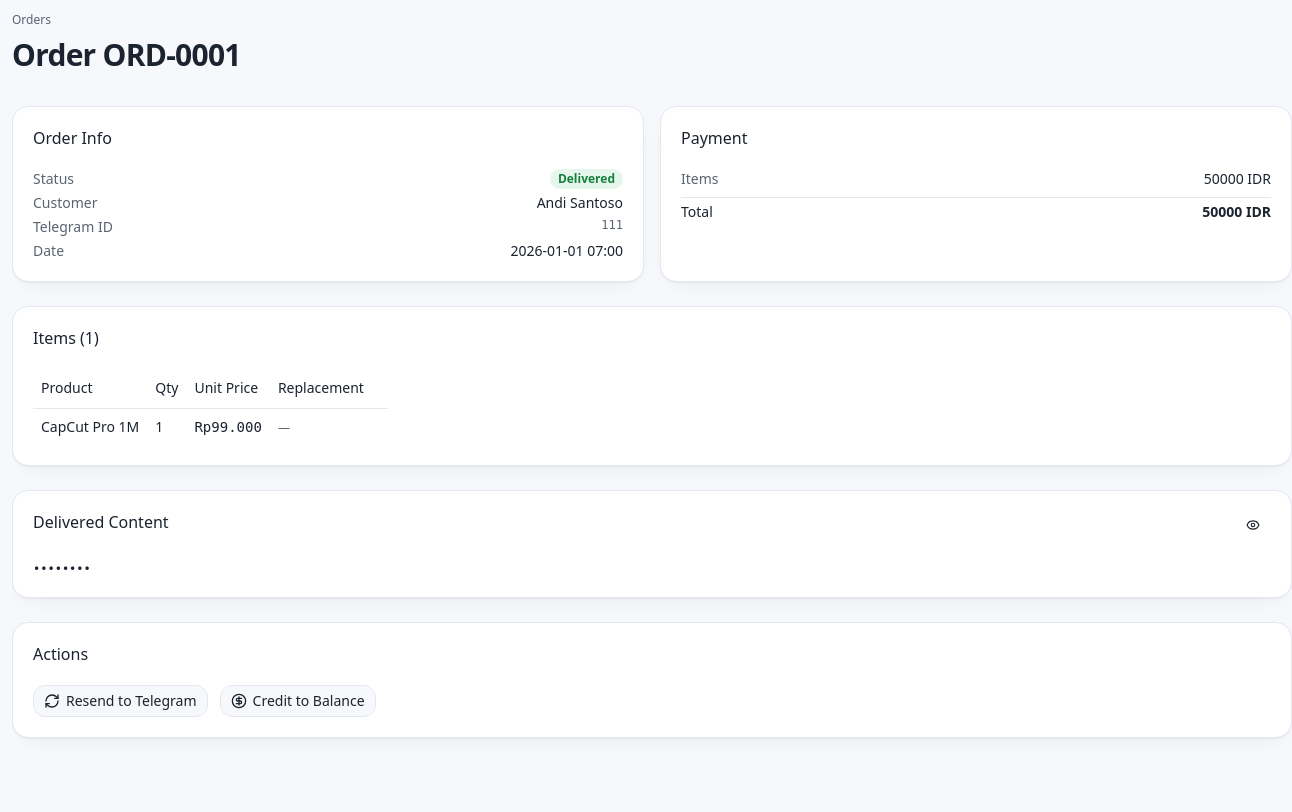
Test: OrderDetailPage — manual fulfilment › reveals the Delivered Content via the audited reveal route, and hides it again without a second request
This screenshot has width=1292, height=812.
Expected: the text "Delivered Content" is shown, x1=33 y1=511 x2=169 y2=533
Click the button named "Show delivered content": click(1253, 525) x1=1235 y1=511 x2=1271 y2=539
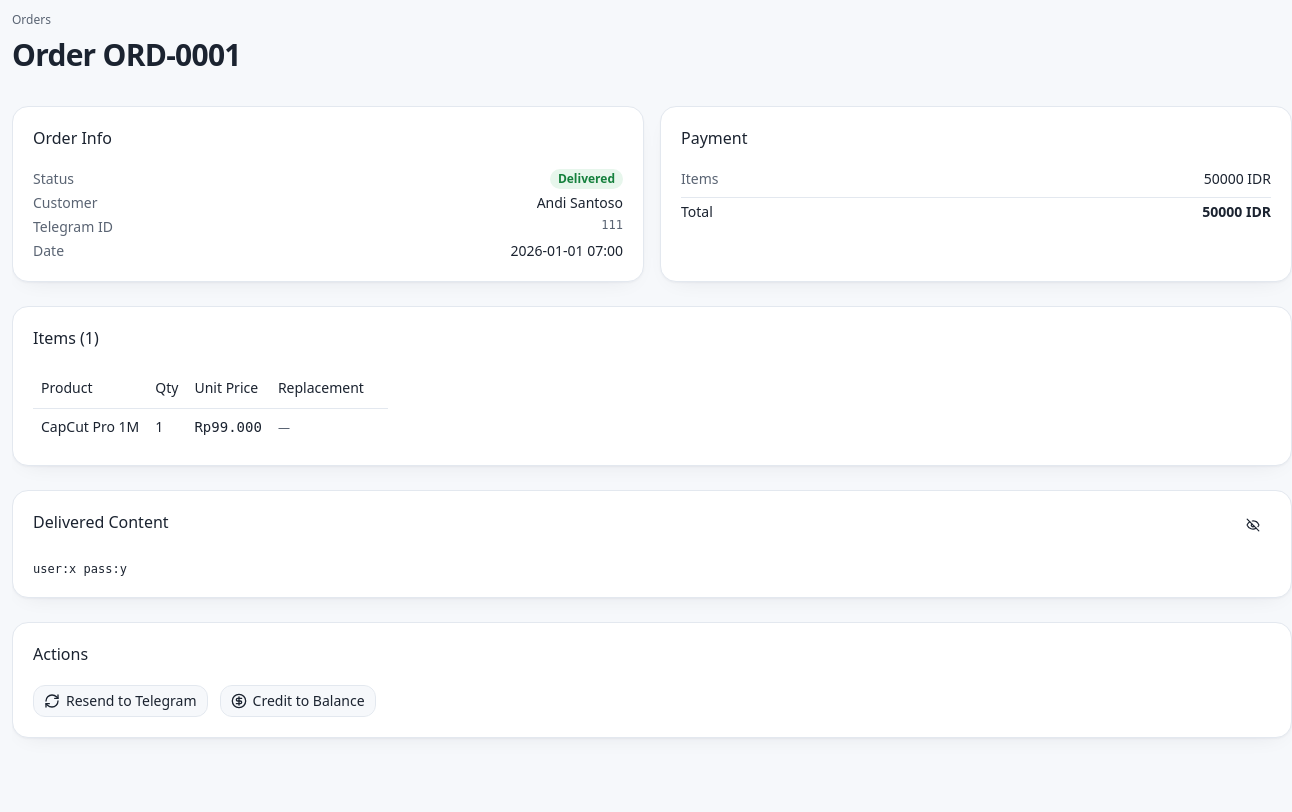
Result: the text "user:x pass:y" is shown at x1=33 y1=562 x2=127 y2=576
Result: the text "••••••••" is gone
Click the button named "Hide delivered content": click(1253, 525) x1=1235 y1=511 x2=1271 y2=539
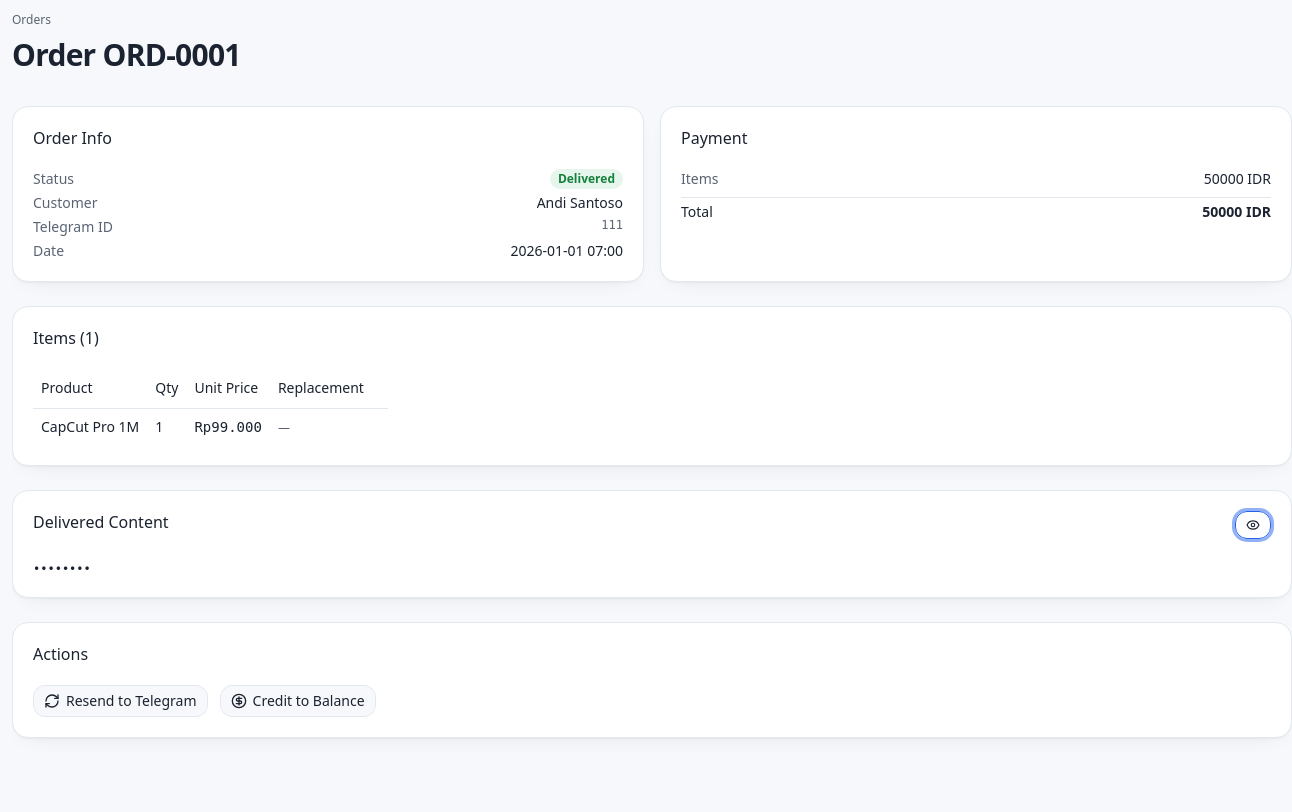
Result: the text "user:x pass:y" is gone
Result: the text "••••••••" is shown at x1=33 y1=562 x2=91 y2=576
